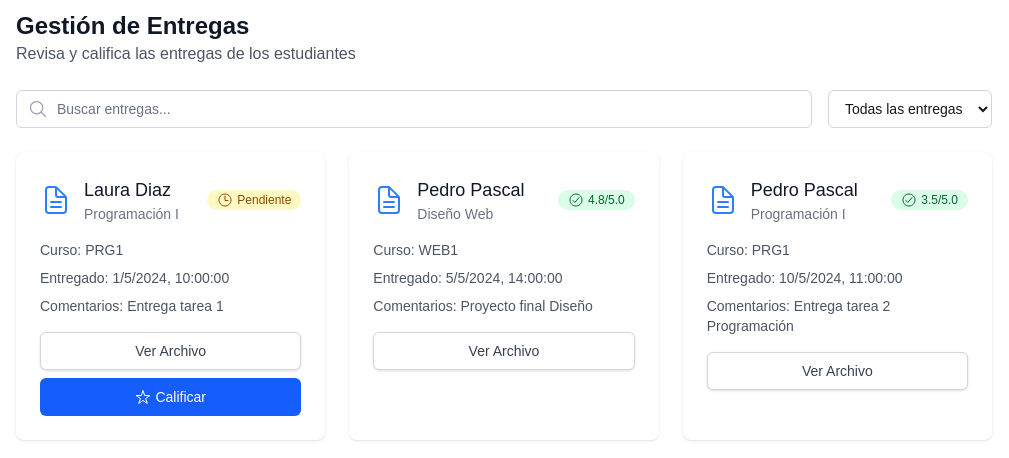
Test: SubmissionsPage › debería filtrar entregas por estado "Calificadas"
Select "Calificadas" in the dropdown named "Filtrar por estado de entrega" at [910, 109], box [828,90,992,128]
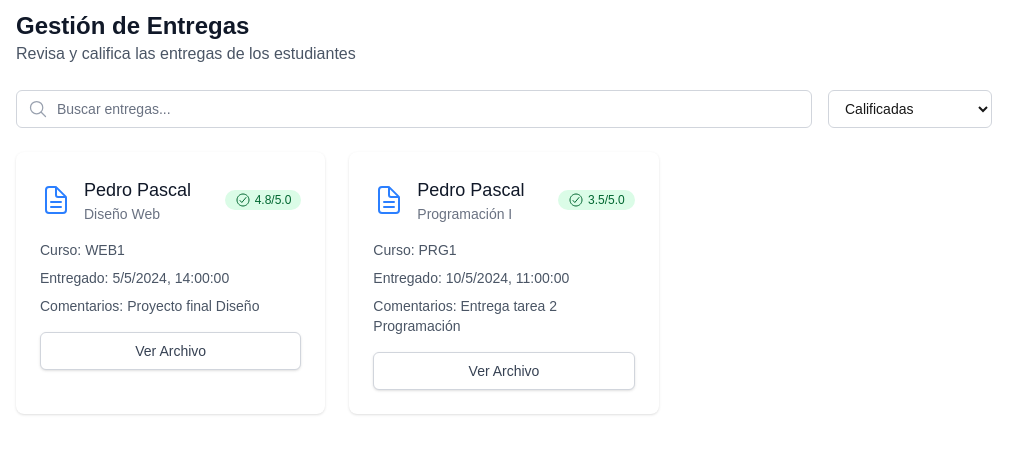
Expected: the text "4.8/5.0" is shown 2 times, [225,190,301,210]; [558,190,635,210]
Result: the heading "Laura Diaz" is gone
Result: the number of headings "Pedro Pascal" is 2 at [84,176,191,204]; [417,176,524,204]
